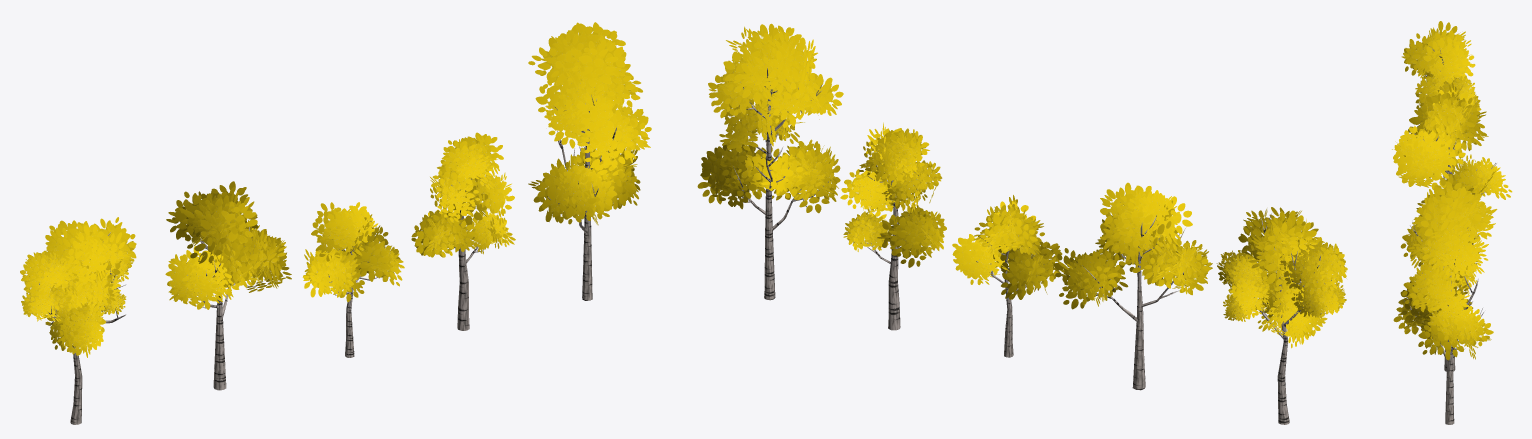
Rendered from birch_trees_free_model_lo.glb.
The picture shows the model from 3 angles, left to right: view 1: azimuth 30°, elevation 25°; view 2: azimuth 150°, elevation 25°; view 3: azimuth 270°, elevation 25°; orthographic projection. The views are drawn at different scales.
Parts seen in each view (by area): view 1: BirchTree_2, BirchTree_3, BirchTree_5, BirchTree_1, BirchTree_4; view 2: BirchTree_2, BirchTree_3, BirchTree_5, BirchTree_1, BirchTree_4; view 3: BirchTree_2, BirchTree_5, BirchTree_3, BirchTree_1.
Boxes of the visible parts, <box> form: BirchTree_2: <box>528,22,651,300</box>; BirchTree_3: <box>20,217,136,424</box>; BirchTree_5: <box>165,181,291,390</box>; BirchTree_1: <box>411,132,515,330</box>; BirchTree_4: <box>302,202,404,357</box>; BirchTree_2: <box>697,23,843,300</box>; BirchTree_3: <box>1216,207,1347,424</box>; BirchTree_5: <box>1052,182,1212,390</box>; BirchTree_1: <box>840,122,946,330</box>; BirchTree_4: <box>952,195,1062,357</box>; BirchTree_2: <box>1393,175,1497,424</box>; BirchTree_5: <box>1392,82,1512,199</box>; BirchTree_3: <box>1401,21,1481,174</box>; BirchTree_1: <box>1411,214,1477,371</box>.
Size of the model in its own units: 19.17 by 7.99 by 4.03.
Materials: 2 (2 with a texture image).
